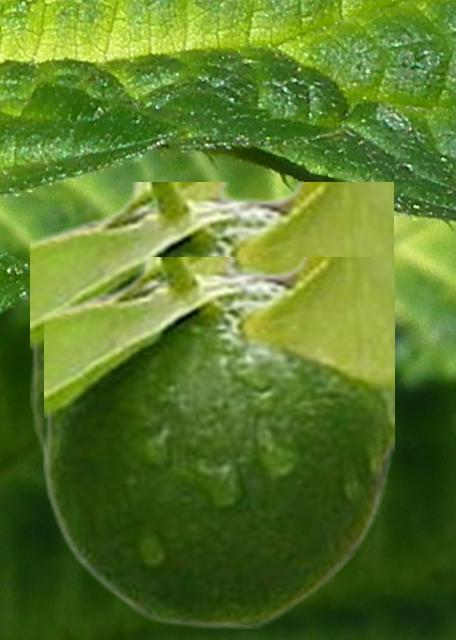dalandan: (44, 257, 393, 627), (30, 182, 392, 473)
